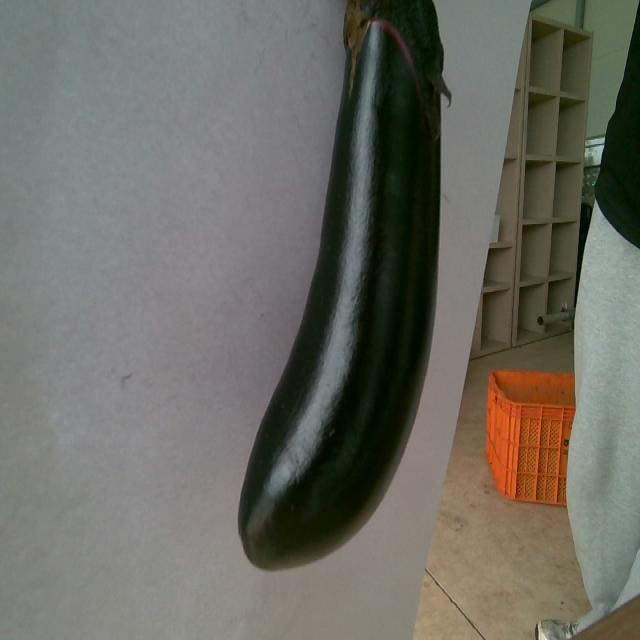Egg plant: (238, 0, 450, 568)
